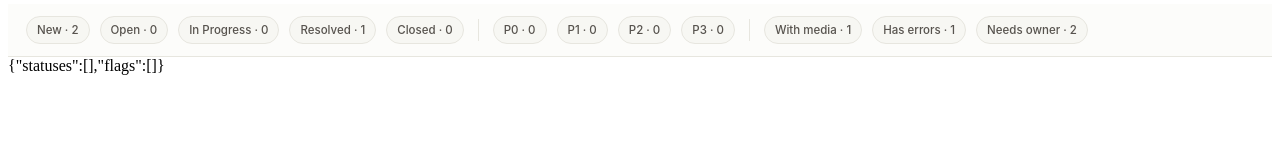
SummaryBar › clicking a status chip toggles the filter
Click the button "New · 2" at coordinates (58, 30), box [26,16,90,44]
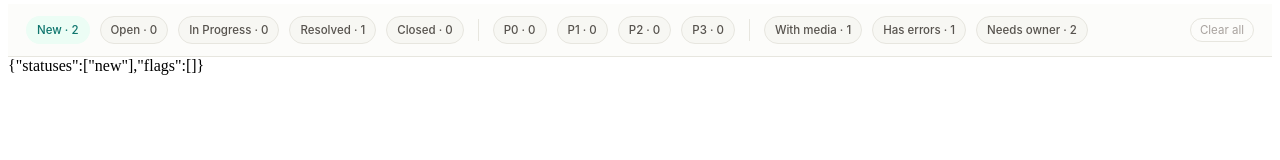
Expected: the text with test id "state" shows "\"statuses\":[\"new\"]", [8,57,204,74]
Click the button "New · 2" at coordinates (58, 30), box [26,16,90,44]
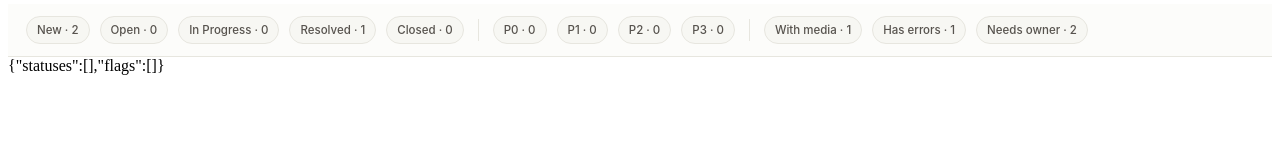
Expected: the text with test id "state" shows "\"statuses\":[]", [8,57,165,74]
